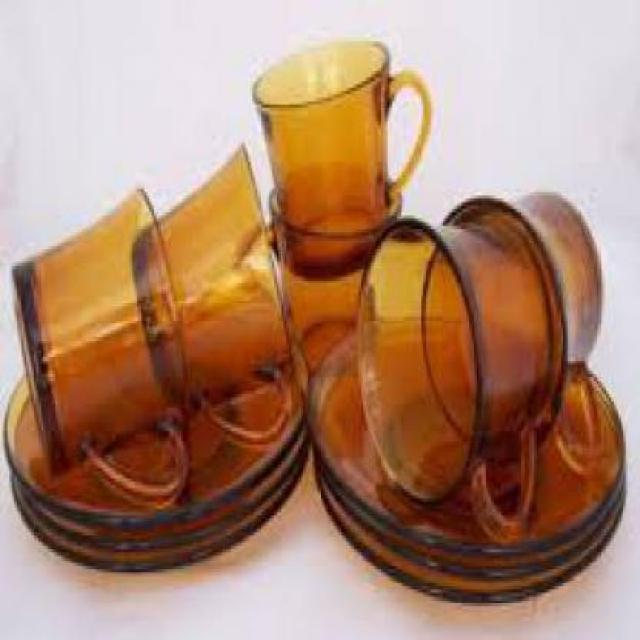kaca: (308, 311, 626, 557), (357, 212, 554, 538), (312, 411, 626, 600), (8, 184, 188, 498), (422, 186, 604, 472), (0, 356, 298, 521), (132, 138, 291, 442), (251, 34, 431, 229), (9, 462, 308, 569), (264, 172, 402, 351)
